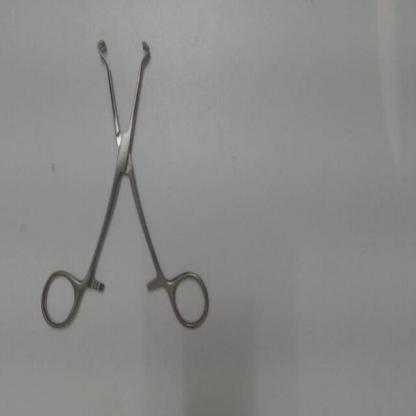Babcock Tissue Forceps: (37, 31, 218, 337)
